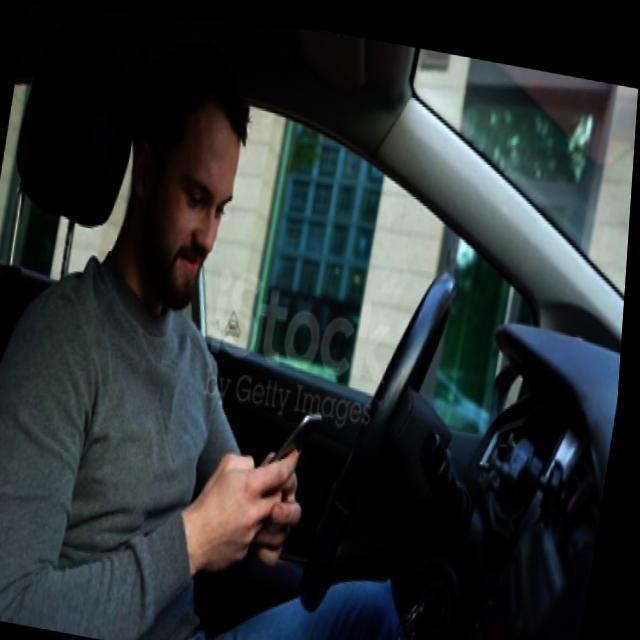PhoneCall: (275, 400, 327, 474)
